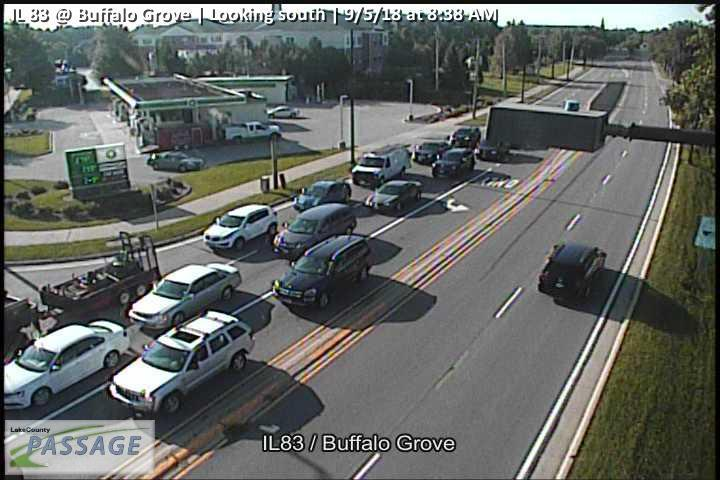SUV: (107, 309, 256, 417), (272, 233, 375, 309), (271, 202, 358, 260), (537, 242, 608, 304), (203, 203, 279, 254), (432, 149, 477, 179), (451, 128, 481, 149)
Sedan: (1, 320, 129, 408), (129, 261, 242, 332), (351, 141, 412, 188), (291, 180, 352, 214), (363, 179, 424, 213), (147, 150, 205, 172), (414, 138, 450, 167), (267, 104, 298, 118)
Truck: (1, 232, 162, 371), (224, 122, 280, 139)
